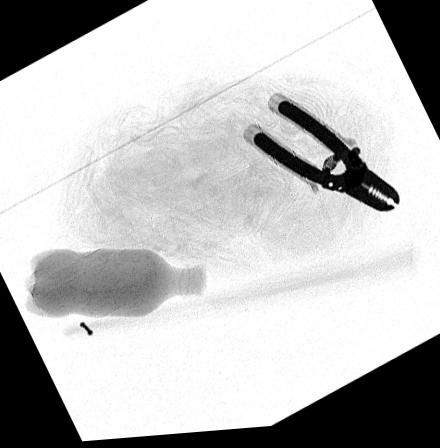Pliers: (247, 99, 400, 218)
